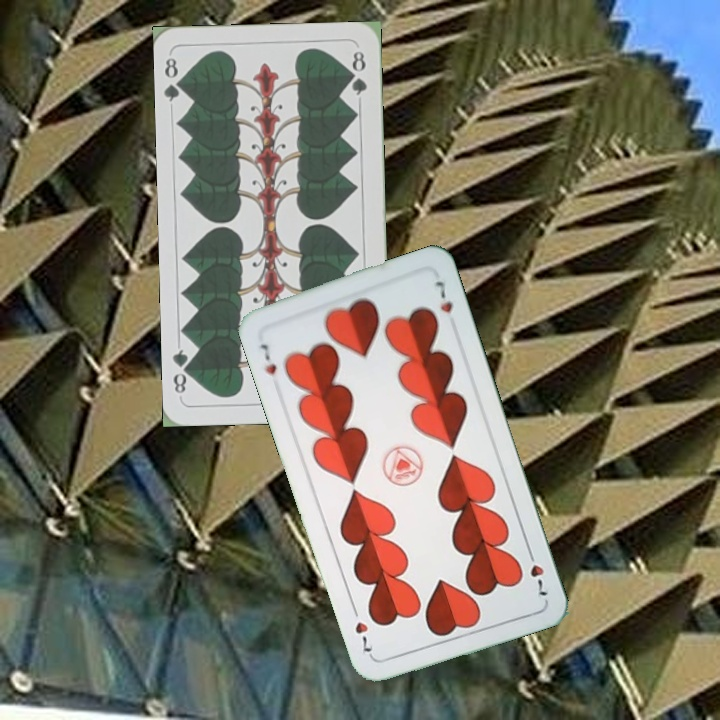G8: (160, 54, 188, 104)
H7: (523, 544, 550, 599), (256, 339, 282, 386)
